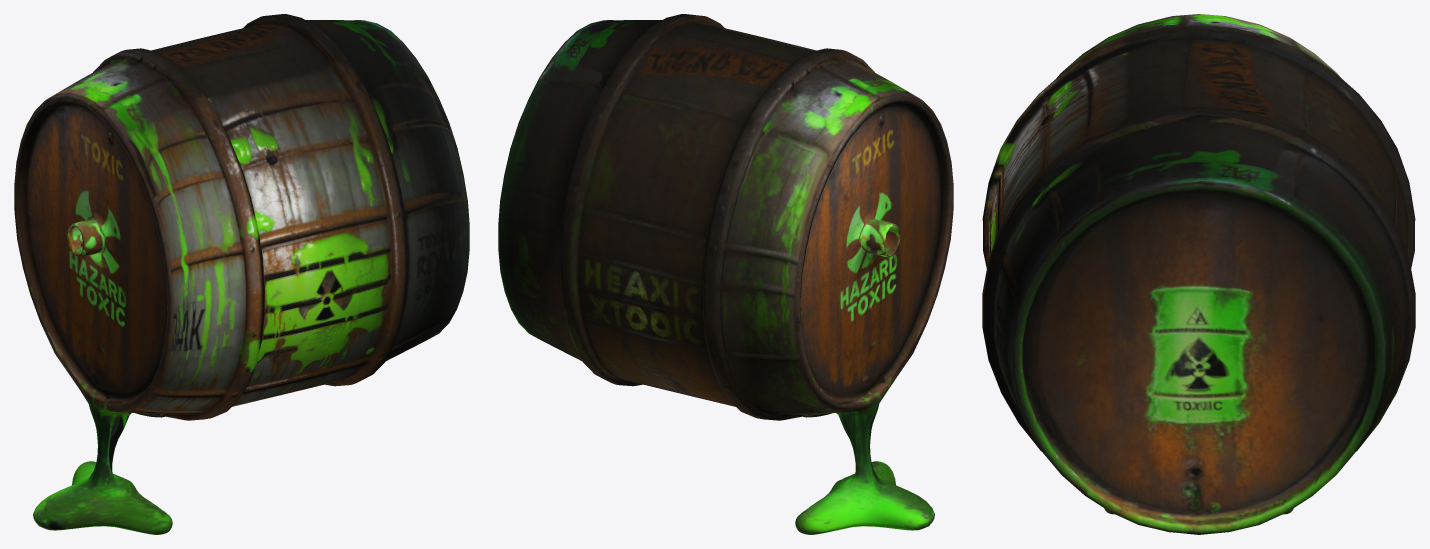
File: aacb7959-af4e-4acf-abf9-eab09e0c7e38.glb
3 views of the same model, side by side, from view 1: azimuth 30°, elevation 25°; view 2: azimuth 150°, elevation 25°; view 3: azimuth 270°, elevation 25° (orthographic). The views are drawn at different scales.
Bounding box in the file's own units: 1.7 × 2 × 1.54.
1 material, 1 textured.
